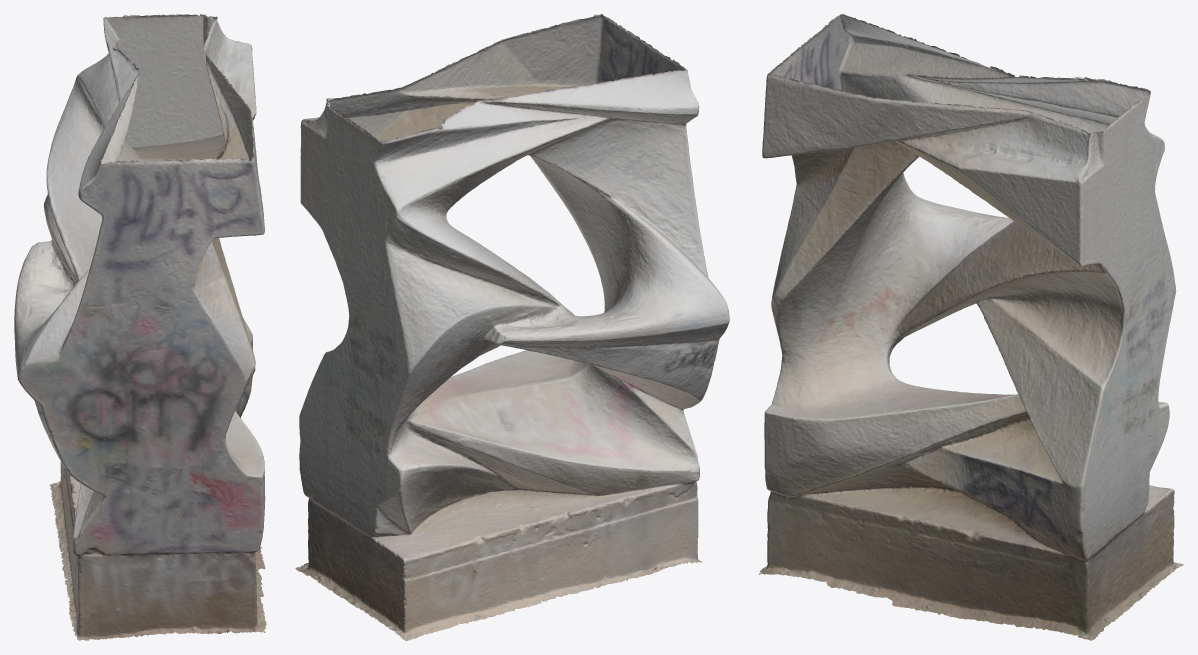
Rendered from statue_photogrammetry.glb.
3 renders of one model, left to right at view 1: azimuth 30°, elevation 25°; view 2: azimuth 150°, elevation 25°; view 3: azimuth 270°, elevation 25°, orthographic. The views are drawn at different scales.
Visible parts, largest first — view 1: geometry_0; view 2: geometry_0; view 3: geometry_0.
Boxes of the visible parts, x1,y1,x2,y2 form: geometry_0: [14, 14, 266, 640]; geometry_0: [295, 14, 729, 640]; geometry_0: [758, 14, 1183, 640].
Bounding box in the file's own units: 2.13 × 2.97 × 2.28.
